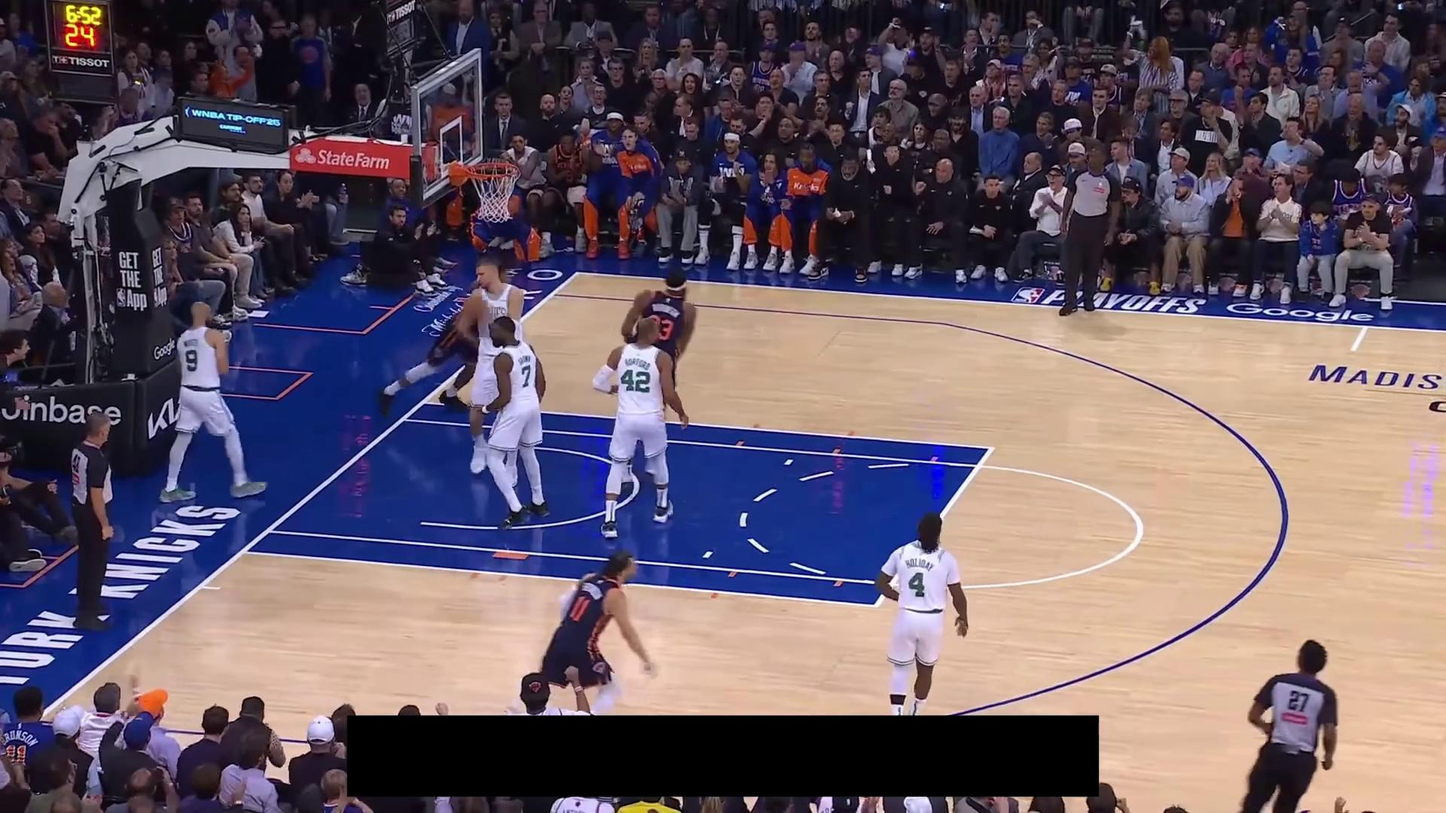ball: (463, 295, 488, 323)
number: (621, 369, 651, 394), (568, 594, 592, 623), (654, 315, 675, 342), (908, 571, 926, 598), (185, 349, 198, 373), (520, 364, 532, 388)
player: (503, 550, 657, 714), (157, 300, 269, 506), (591, 318, 689, 540), (872, 509, 972, 715), (378, 263, 508, 417), (620, 268, 696, 494), (475, 316, 551, 529)
player-in-possession: (459, 256, 525, 488)
referee: (1240, 638, 1339, 813), (1058, 144, 1123, 316), (68, 411, 118, 632)
rim: (465, 160, 520, 179)
